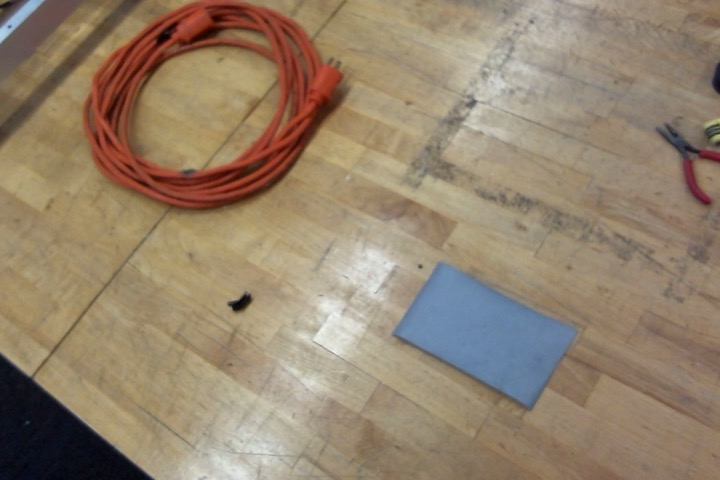Tape: (392, 262, 580, 412)
